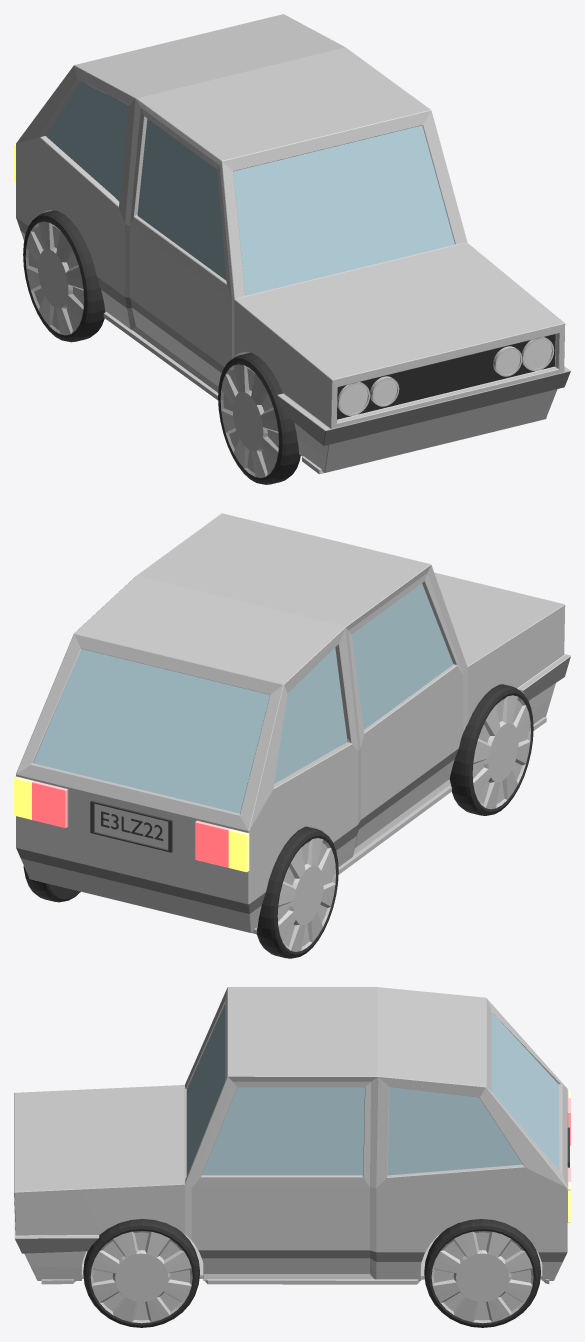
Rendered from autov3.fbx.
3 views of the same model, one above another, from view 1: azimuth 30°, elevation 25°; view 2: azimuth 150°, elevation 25°; view 3: azimuth 270°, elevation 25° (orthographic). The views are drawn at different scales.
Visible parts, largest first — view 1: Cylinder.001, Cylinder.003, Cylinder.002; view 2: Cylinder.001, Cylinder.002, Cylinder.003, Cylinder.004; view 3: Cylinder.001, Cylinder.004, Cylinder.005.
Part boxes in pixels (x1,y1,x2,y2): Cylinder.001: [14, 14, 570, 474]; Cylinder.003: [23, 210, 105, 342]; Cylinder.002: [218, 352, 300, 484]; Cylinder.001: [14, 513, 570, 934]; Cylinder.002: [449, 684, 533, 815]; Cylinder.003: [256, 826, 338, 958]; Cylinder.004: [23, 866, 80, 902]; Cylinder.001: [14, 987, 570, 1284]; Cylinder.004: [424, 1219, 540, 1327]; Cylinder.005: [83, 1219, 199, 1327].
Size of the model in its own units: 219 by 229 by 473.
